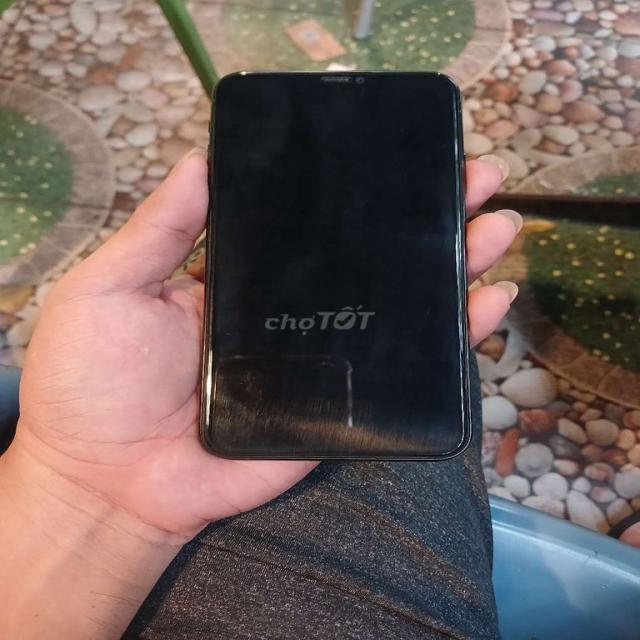scratch: (449, 268, 481, 453), (439, 65, 473, 218)
